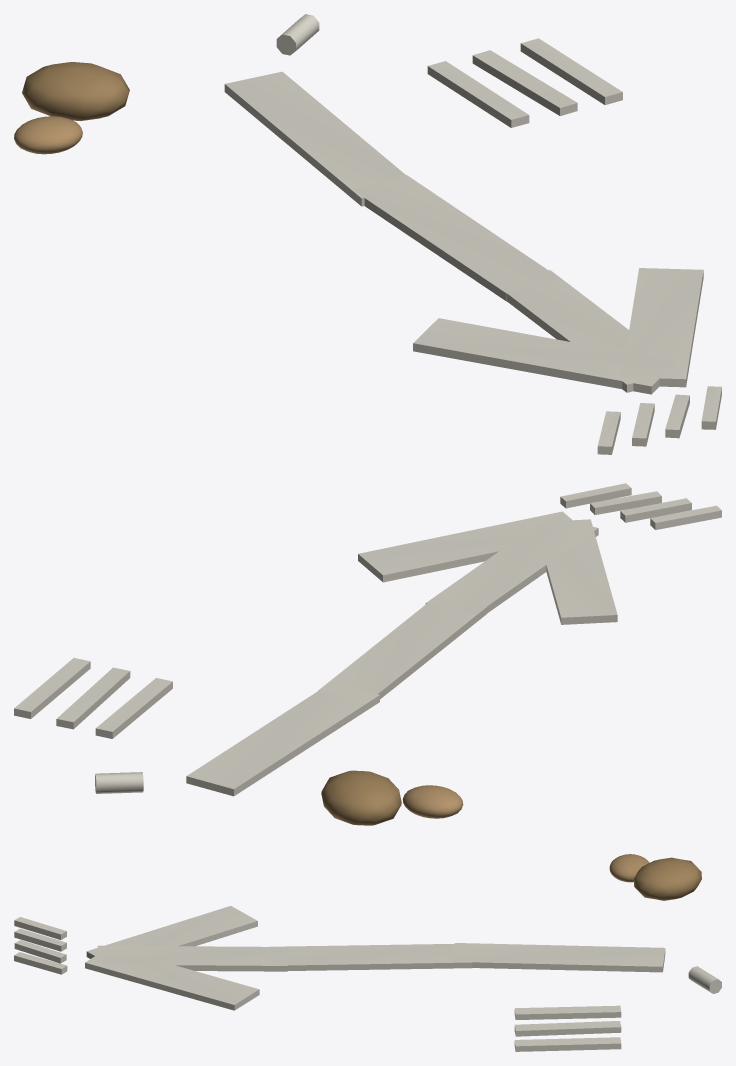
File: chalk_turn_a.glb
3 renders of one model, top to bottom at view 1: azimuth 30°, elevation 25°; view 2: azimuth 150°, elevation 25°; view 3: azimuth 270°, elevation 25°, orthographic. The views are drawn at different scales.
Visible parts, largest first — view 1: Surface; view 2: Surface; view 3: Surface.
Part boxes in pixels (x1=…): Surface: x1=14, y1=14, x2=721, y2=454; Surface: x1=14, y1=483, x2=721, y2=825; Surface: x1=14, y1=854, x2=721, y2=1051.
Size of the model in its own units: 3.36 by 0.3596 by 5.67.
